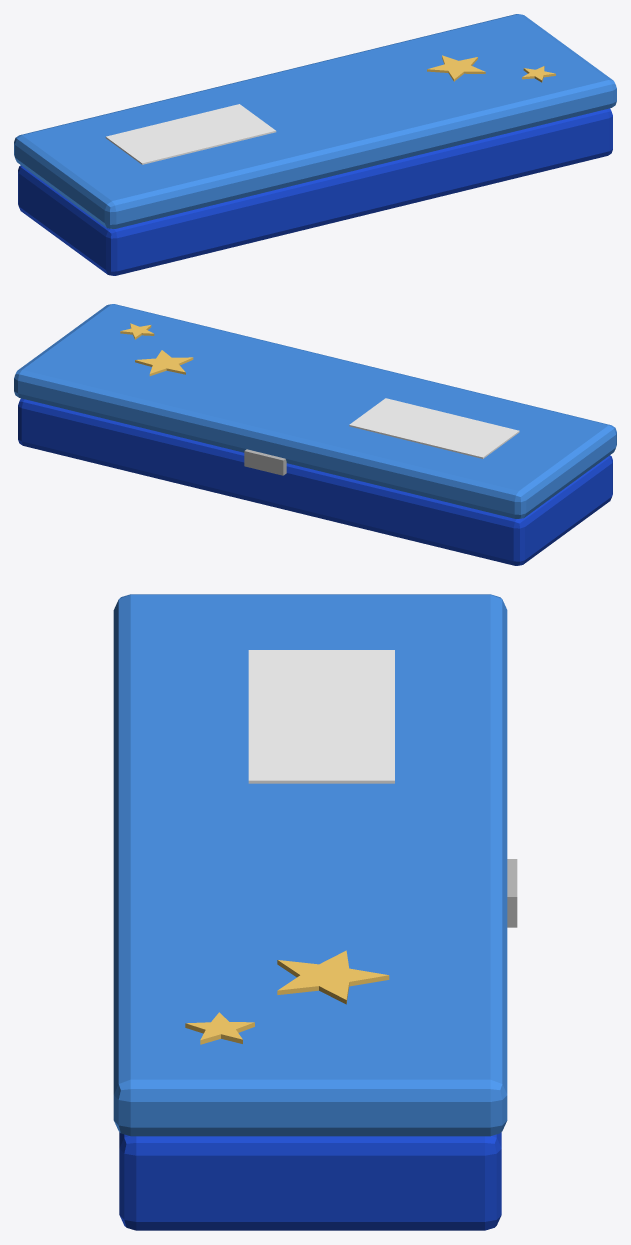
Rendered from pencil_case.glb.
3 renders of one model, top to bottom at view 1: azimuth 30°, elevation 25°; view 2: azimuth 150°, elevation 25°; view 3: azimuth 270°, elevation 25°, orthographic. The views are drawn at different scales.
Parts seen in each view (by area): view 1: Cube.001, Cube, Cube.002, prism; view 2: Cube.001, Cube, Cube.002, Cube.003, prism; view 3: Cube.001, Cube, Cube.002, prism, prism.001.
Boxes of the visible parts, x1,y1,x2,y2 form: Cube.001: [14, 14, 616, 228]; Cube: [18, 108, 612, 275]; Cube.002: [105, 104, 276, 164]; prism: [427, 55, 485, 81]; Cube.001: [14, 304, 616, 518]; Cube: [18, 398, 612, 565]; Cube.002: [349, 398, 519, 458]; Cube.003: [244, 449, 286, 475]; prism: [135, 350, 193, 375]; Cube.001: [113, 594, 507, 1136]; Cube: [119, 1132, 501, 1230]; Cube.002: [248, 650, 394, 783]; prism: [277, 950, 389, 1004]; prism.001: [185, 1012, 254, 1044].
Bounding box in the file's own units: 21 × 3.09 × 7.17.
